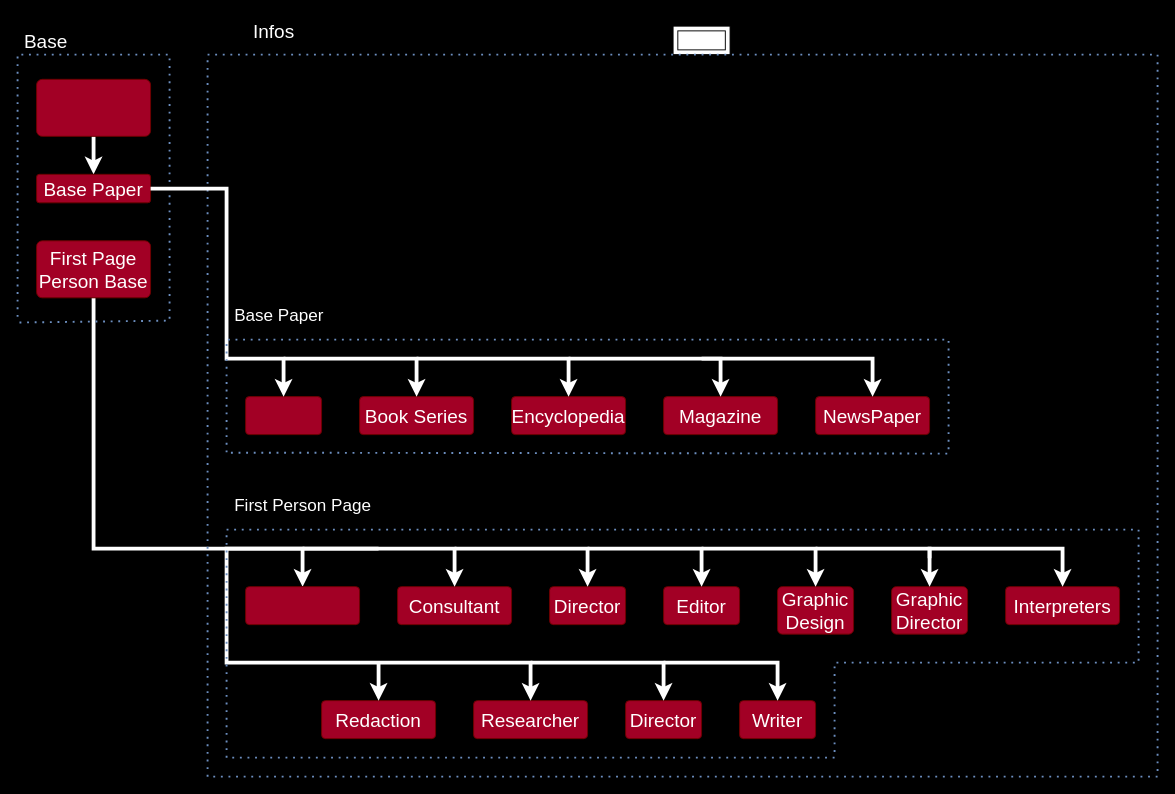
Some shapes in this 1175 by 794 pixel diagram are drawn without their labels. Here are the shapes that lost their labels. From the top down, the centre of each, then its label:
At point 701,40: "IEntity".
At point 93,107: "Material Base".
At point 283,415: "Book".
At point 302,605: "Composer".
